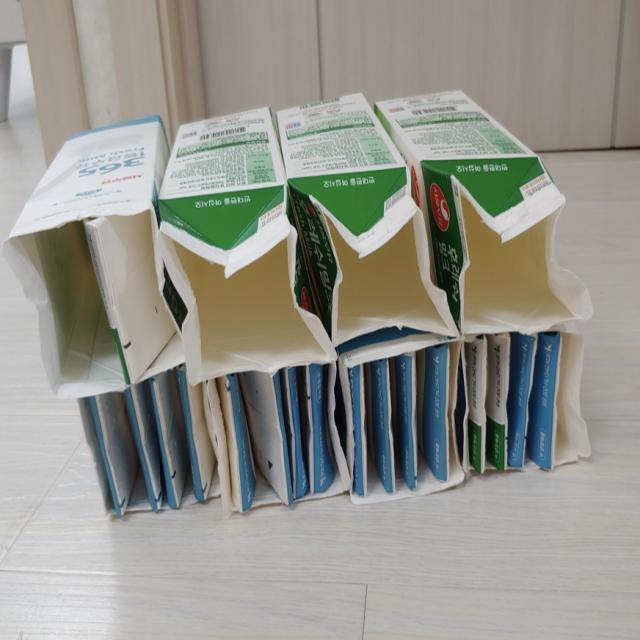biodegradable: (369, 58, 602, 339), (152, 90, 340, 381), (340, 326, 600, 514), (22, 73, 170, 399)
